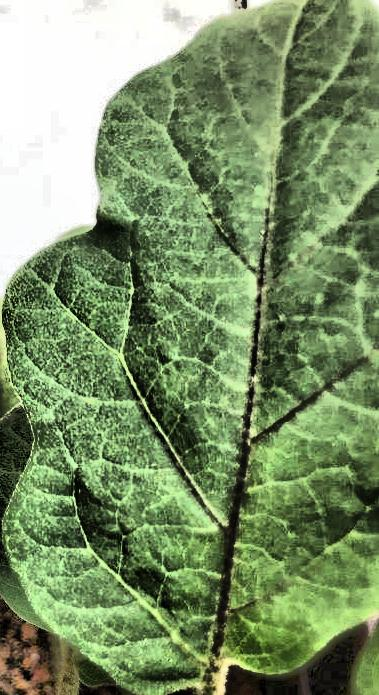HEALTHY: (1, 0, 379, 695)
